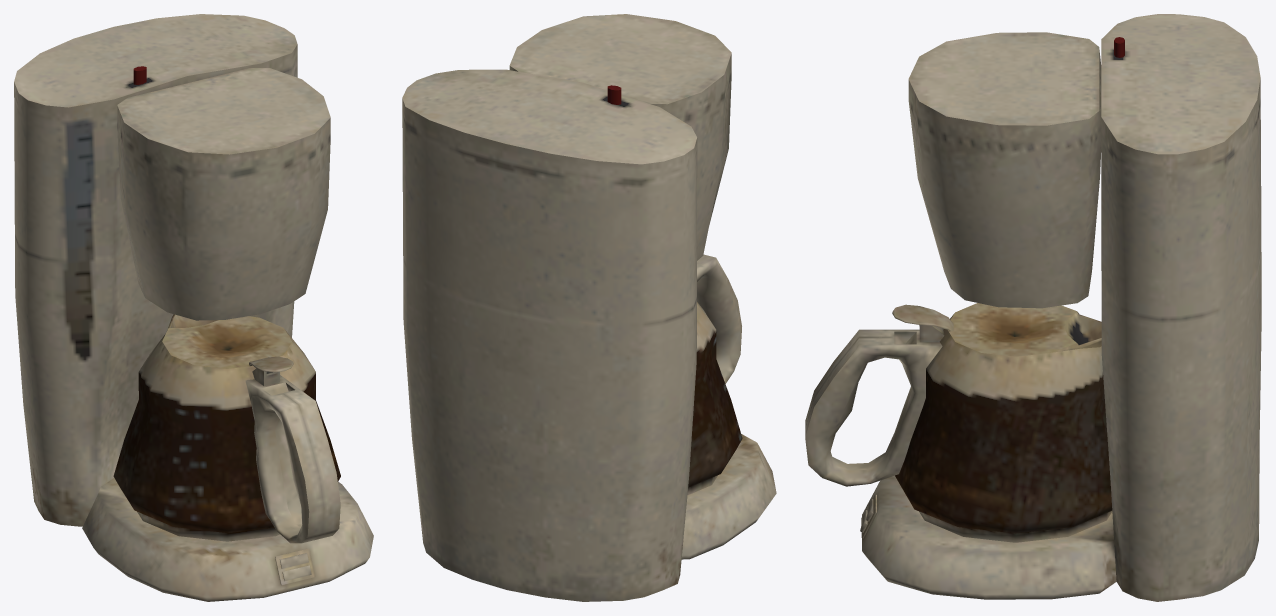
File: 014_CoffeMaker.fbx
3 views of the same model, side by side, from view 1: azimuth 30°, elevation 25°; view 2: azimuth 150°, elevation 25°; view 3: azimuth 270°, elevation 25° (orthographic). The views are drawn at different scales.
Parts seen in each view (by area): view 1: LOD_1_Group_0_Sub_1__sm31_014_CoffeeMaker01A_A_Mat; view 2: LOD_1_Group_0_Sub_1__sm31_014_CoffeeMaker01A_A_Mat; view 3: LOD_1_Group_0_Sub_1__sm31_014_CoffeeMaker01A_A_Mat.
Part boxes in pixels (x1=…): LOD_1_Group_0_Sub_1__sm31_014_CoffeeMaker01A_A_Mat: x1=14, y1=14, x2=373, y2=601; LOD_1_Group_0_Sub_1__sm31_014_CoffeeMaker01A_A_Mat: x1=402, y1=14, x2=776, y2=601; LOD_1_Group_0_Sub_1__sm31_014_CoffeeMaker01A_A_Mat: x1=805, y1=14, x2=1261, y2=601.
Bounding box in the file's own units: 0.2329 × 0.3709 × 0.3202.
